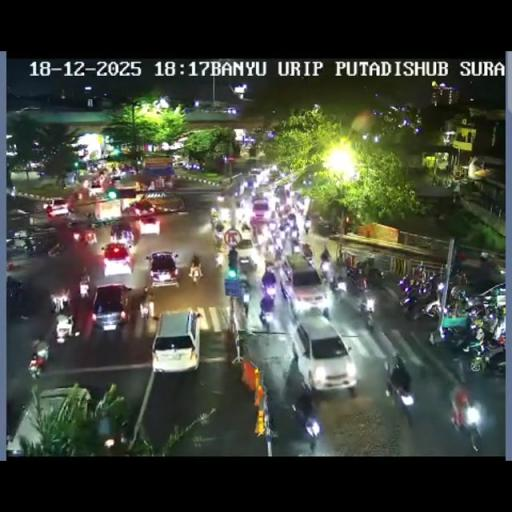Car: (7, 383, 93, 458), (292, 316, 355, 390), (150, 310, 200, 372), (284, 254, 328, 314), (90, 282, 132, 330), (133, 191, 184, 216), (147, 250, 180, 288), (102, 242, 134, 276), (234, 237, 258, 271), (110, 222, 134, 244), (44, 198, 70, 218), (250, 198, 270, 222), (138, 214, 161, 234), (88, 182, 106, 196), (248, 168, 262, 182)
Motorcycle: (265, 196, 308, 258), (434, 315, 478, 357), (384, 358, 414, 418), (422, 284, 464, 322), (452, 400, 482, 450), (98, 418, 130, 454), (284, 358, 307, 402), (479, 341, 506, 377), (301, 412, 322, 450), (358, 287, 376, 326), (346, 266, 368, 296), (402, 293, 422, 321), (450, 354, 468, 384), (140, 282, 155, 318), (6, 276, 24, 306), (463, 300, 487, 322), (54, 314, 74, 340), (490, 308, 506, 340), (398, 273, 418, 298), (250, 218, 269, 244), (258, 304, 276, 331), (364, 266, 386, 288), (261, 266, 277, 296), (27, 351, 44, 379), (329, 268, 346, 294), (486, 261, 504, 284), (51, 292, 67, 313), (66, 216, 90, 230), (319, 249, 332, 274), (452, 270, 468, 290), (78, 268, 90, 294), (240, 286, 250, 316), (189, 264, 202, 283), (82, 230, 96, 246), (213, 227, 224, 247), (290, 234, 301, 254), (264, 252, 276, 270), (24, 241, 38, 256), (278, 217, 288, 237), (214, 250, 225, 268), (70, 228, 84, 242), (273, 242, 283, 261), (210, 212, 220, 230), (238, 208, 248, 226), (238, 179, 248, 196), (303, 217, 311, 232), (86, 212, 92, 222)
